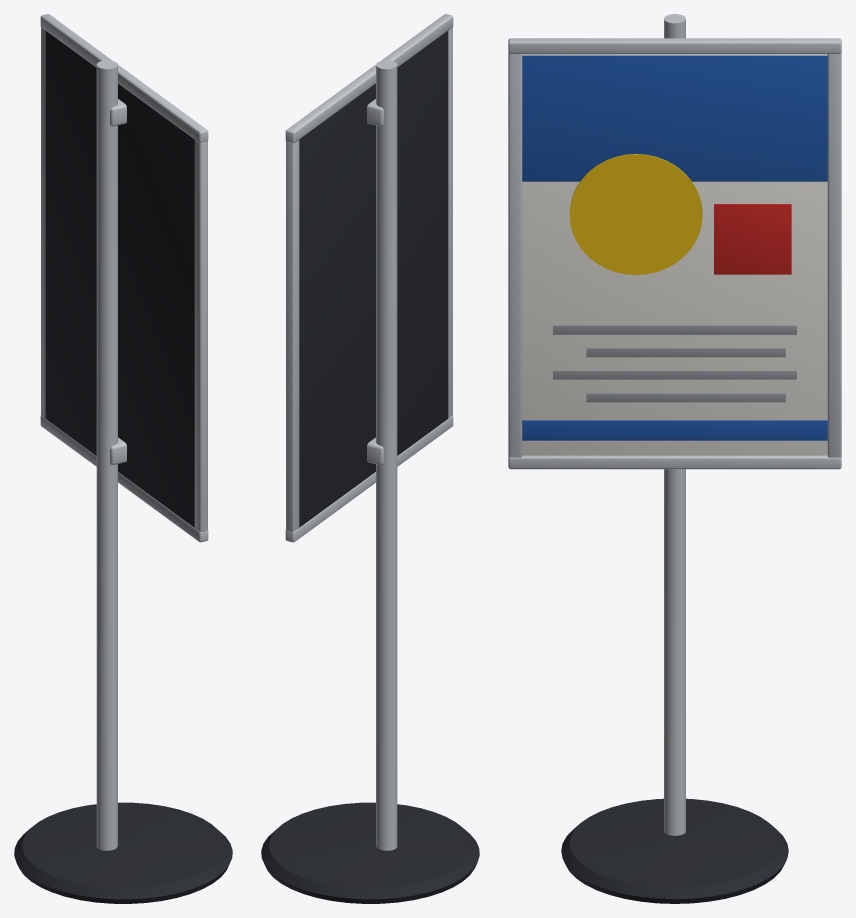
File: poster-display-stand.glb
3 views of the same model, side by side, from view 1: azimuth 30°, elevation 25°; view 2: azimuth 150°, elevation 25°; view 3: azimuth 270°, elevation 25° (orthographic). The views are drawn at different scales.
Visible parts, largest first — view 1: Poster_Display_Stand; view 2: Poster_Display_Stand; view 3: Poster_Display_Stand.
Part boxes in pixels (bbox=[...]): Poster_Display_Stand: bbox=[14, 14, 232, 903]; Poster_Display_Stand: bbox=[261, 14, 479, 903]; Poster_Display_Stand: bbox=[508, 14, 841, 903].
Bounding box in the file's own units: 0.41 × 1.65 × 0.6.
